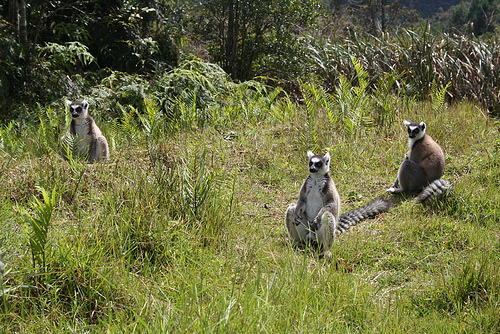cat: (282, 148, 385, 255), (388, 120, 449, 208), (61, 96, 109, 166)
